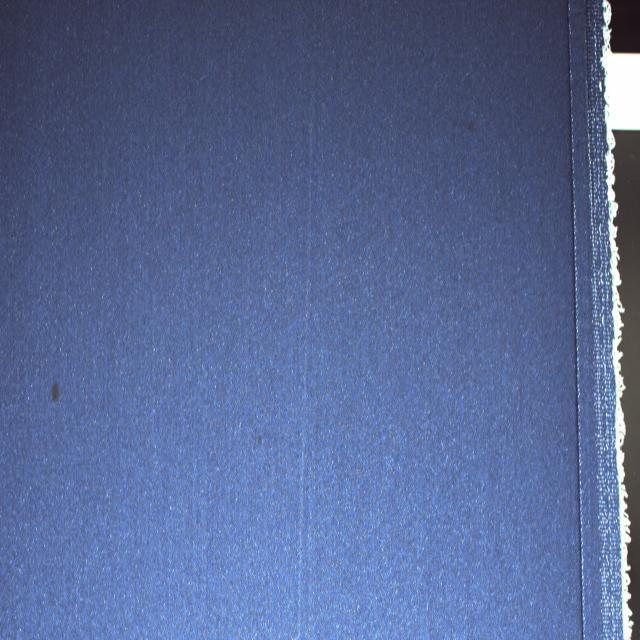Stain: (50, 383, 60, 402)
